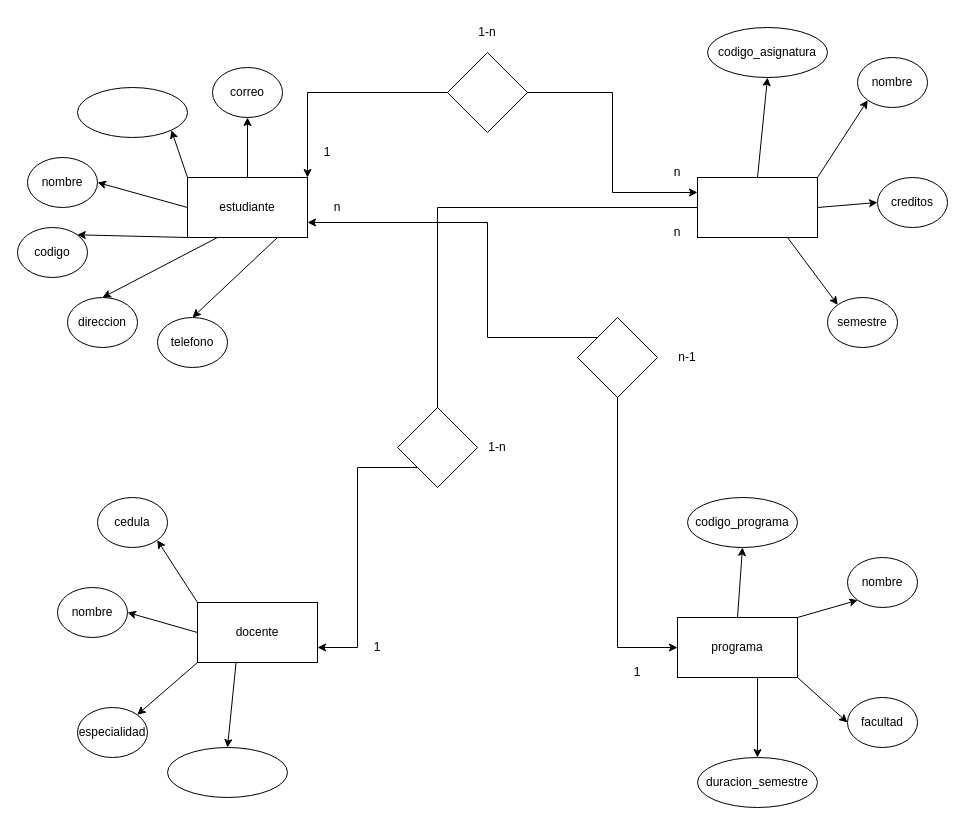
Some shapes in this 965 by 825 pixel diagram are drawn without their labels. The shapes that lost their labels are listed below. From the top down, each one's centre as x and y in pixels, then its label:
At point 132,112: "fecha_nacimiento".
At point 487,92: "cursa".
At point 757,207: "asignatura".
At point 617,357: "pertenece_a".
At point 437,447: "dicta".
At point 227,772: "correo_institucional".
